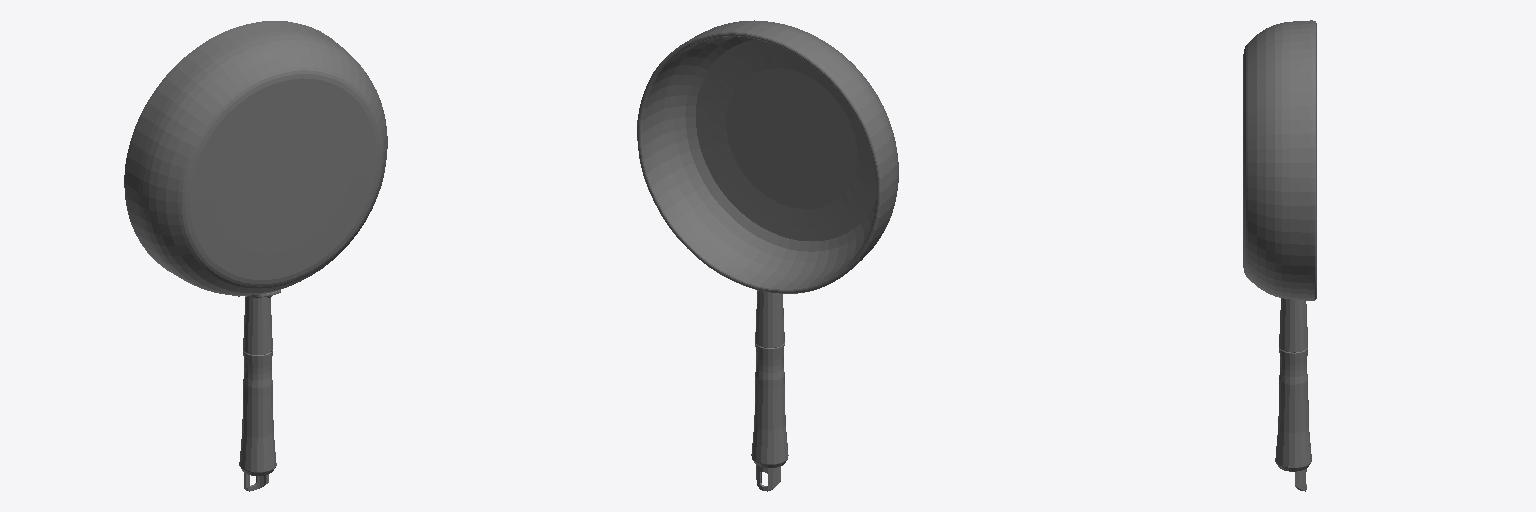
The robot description file, URDF, robot "object":
<?xml version="1.0"?>
<robot name="object">
  <link name="object">
    <visual>
      <origin xyz="0 0 0"/>
      <geometry>
        <mesh
          filename="../../mesh/oakink_virtual/frying_pan_5.stl" />
      </geometry>
      <material name="mat">
        <color rgba="0.5 0.5 0.5 1"/>
      </material>
    </visual>

    <collision>
      <origin xyz="0 0 0"/>
      <geometry>
        <mesh
          filename="../../mesh/oakink_virtual/frying_pan_5.stl" />
      </geometry>
    </collision>
  </link>
</robot>

--- Facts derived from the render (not from the file) ---
Views: 3 orthographic renders of the robot side by side, from view 1: azimuth 30°, elevation 25°; view 2: azimuth 150°, elevation 25°; view 3: azimuth 270°, elevation 25°.
Robot: object — 1 links, 0 joints (none); root link object; default pose: every joint at zero.
Visible links, largest first — view 1: object; view 2: object; view 3: object.
Link boxes in pixels (x1=…): object: x1=124, y1=21, x2=387, y2=491; object: x1=637, y1=20, x2=898, y2=491; object: x1=1243, y1=20, x2=1316, y2=491.
Bounding box of the posed robot: 0.1359 × 0.0355 × 0.244 m (x, y, z).
1 mesh visuals loaded from 1 distinct referenced files (1 binary STL).